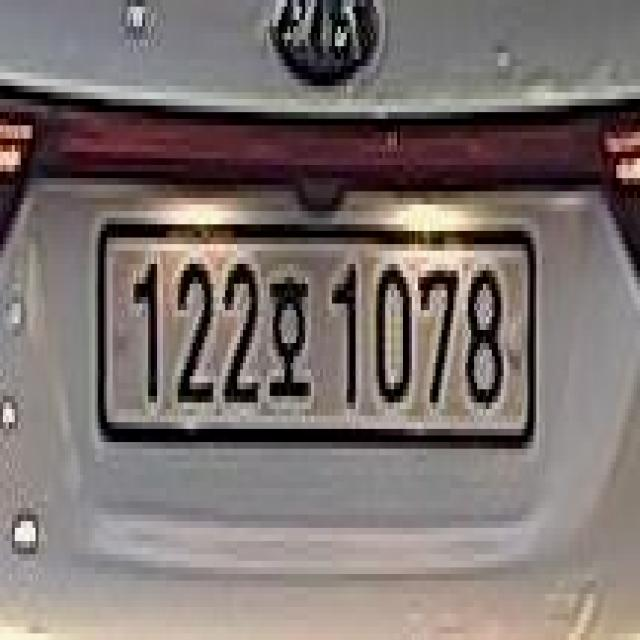illegal_plate: (92, 206, 540, 480)
